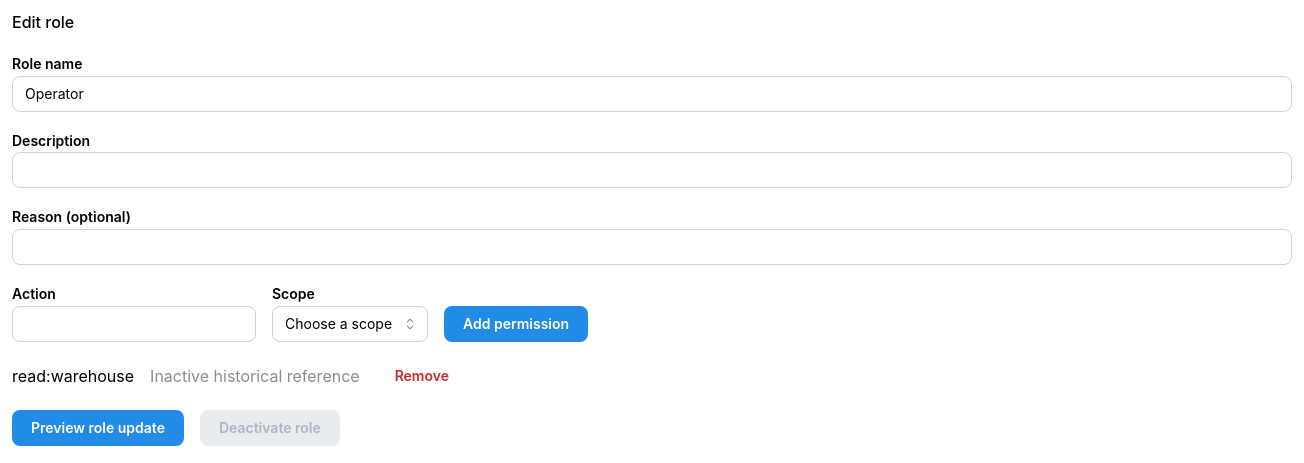
RoleWorkflow › keeps inactive historical permissions visible until the administrator removes them
Check: the text "Inactive historical reference" is shown, box [150, 364, 360, 388]
What coordinates should you click on to do the following:
click the button with aria-label "Remove read:warehouse"
I would click on:
 (422, 376)
Its box is [376, 358, 468, 394].
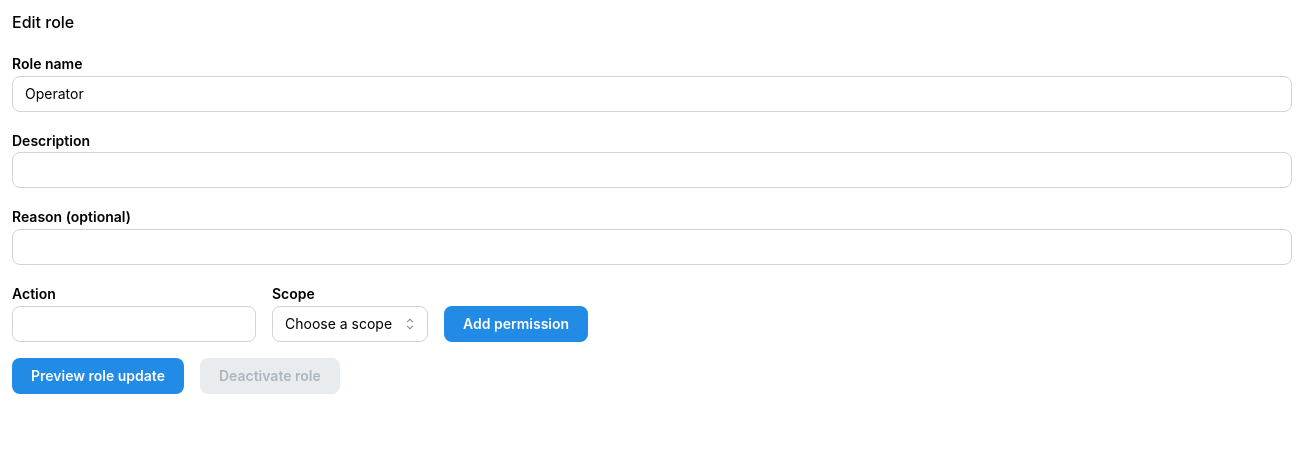
Check: the text "Inactive historical reference" is gone
